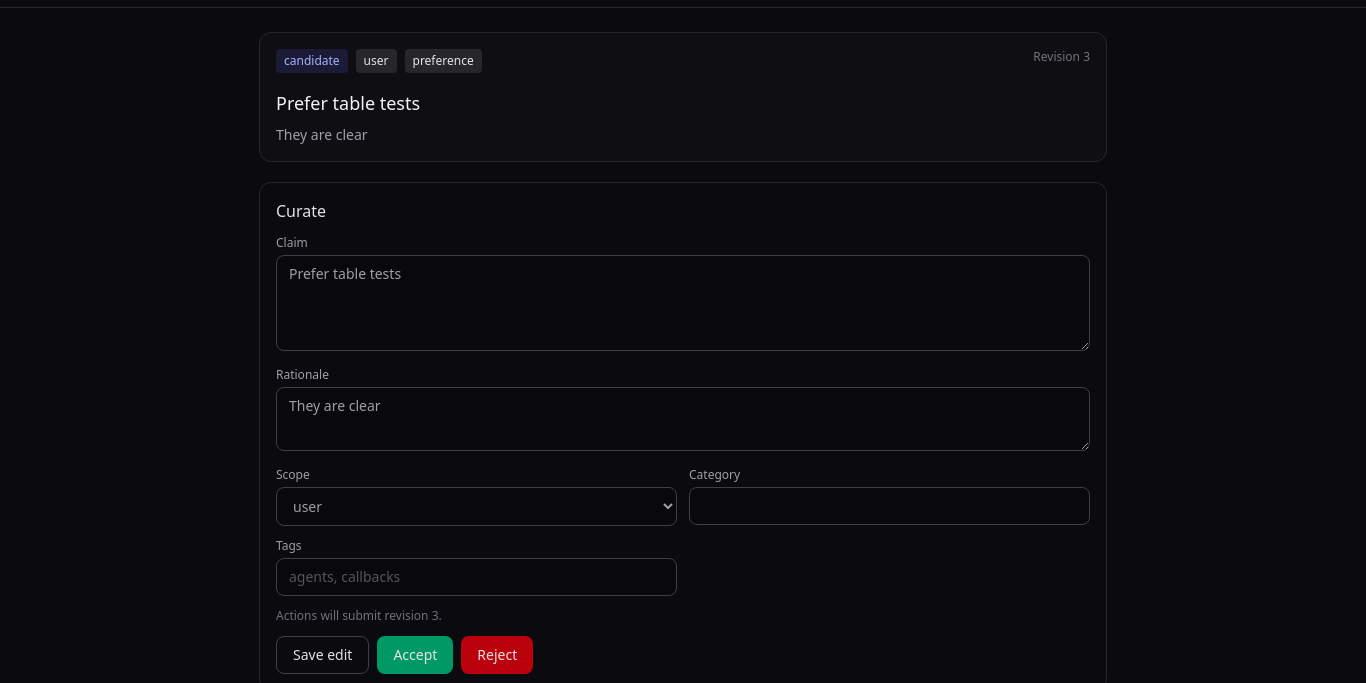
learning curation pages › accepts and immediately replaces decision controls with prompt activation
This screenshot has width=1366, height=683.
Click the button "Accept" at (415, 655), box [377,636,453,674]
(page scrolled)
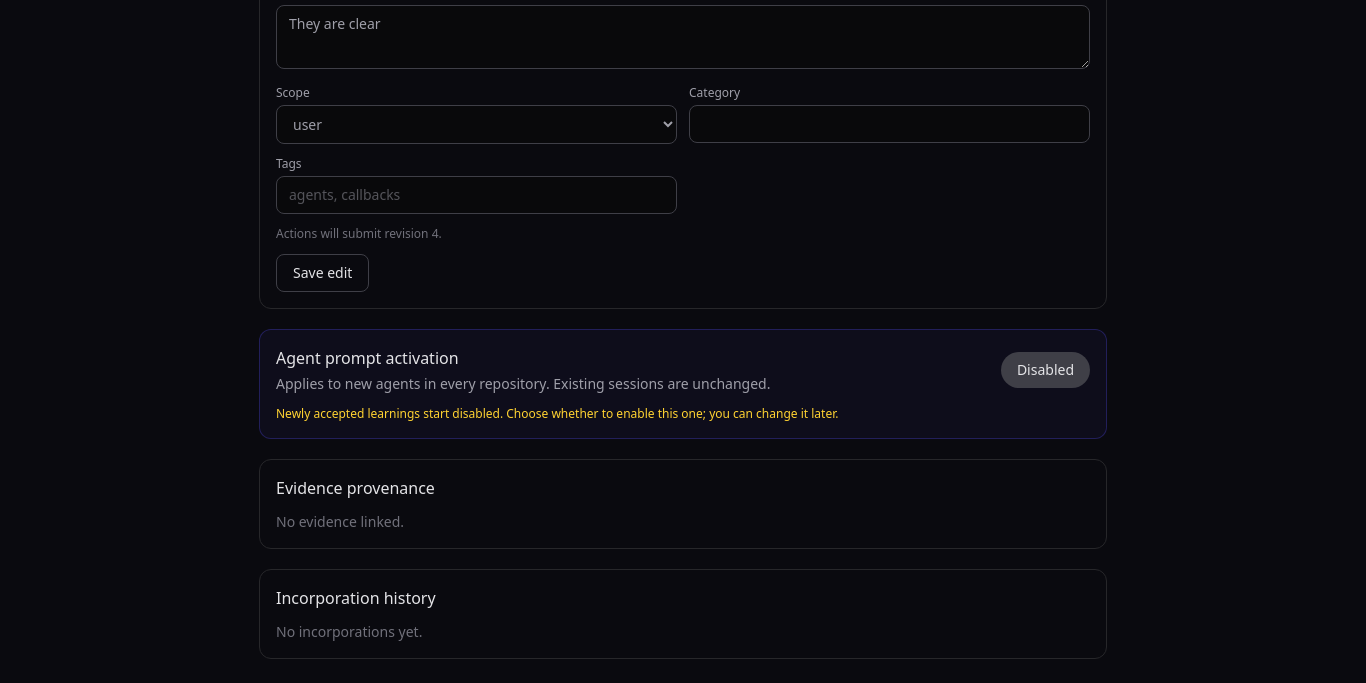
expect the switch labelled "Disabled" is shown: met, box [1001,352,1090,388]
